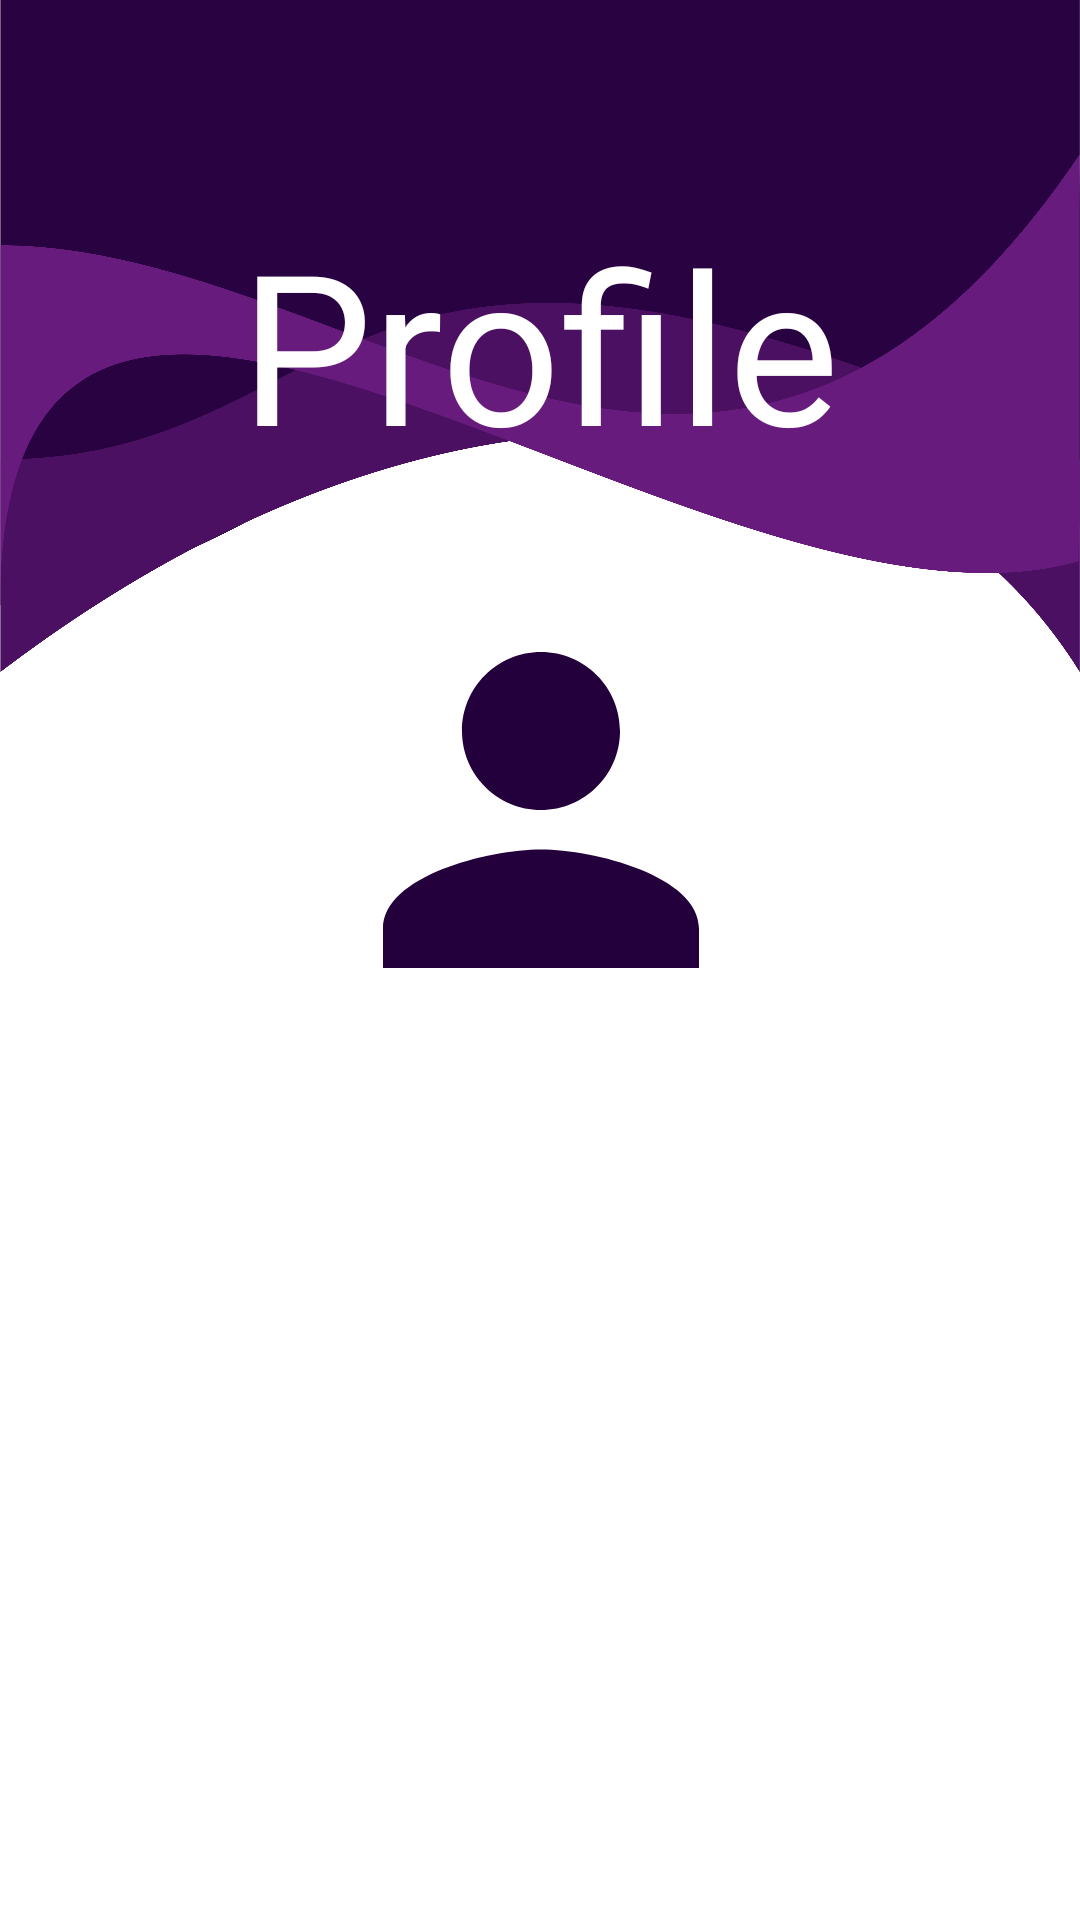

Where to tap for icons on this 1080px×1920px app screen, as point (x, y):
person: point (541, 810)
